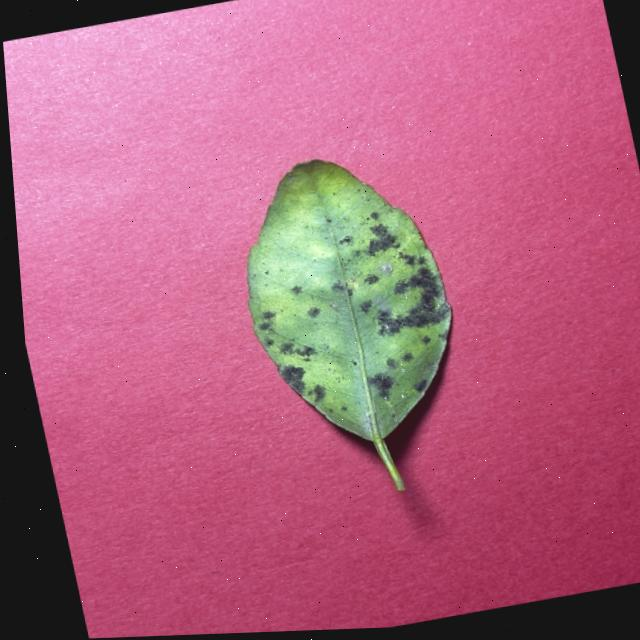sooty_mold: (247, 160, 451, 490)
